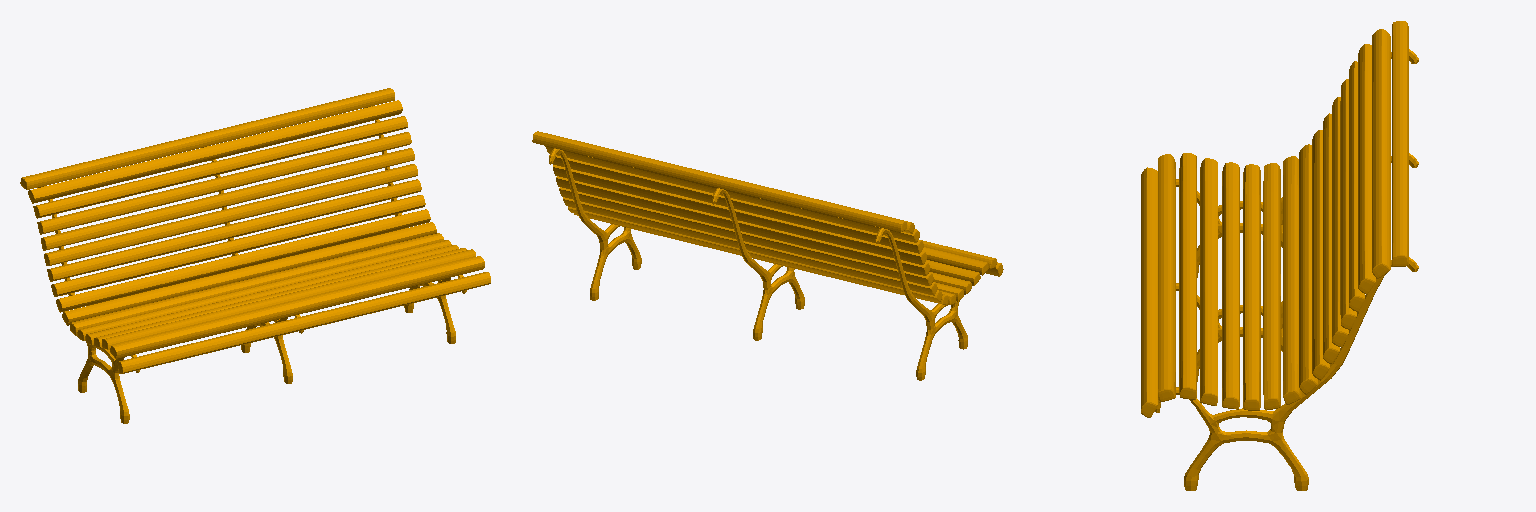
URDF robot description (none):
<robot name="none">
       <link name="none">
           <visual>
               <origin rpy="1.57 0 0" xyz="0 0 0" />
               <geometry>
                   <mesh filename="wood_bank.obj" />
               </geometry>
           </visual>
          <collision>
              <geometry>
                  <box size="1.000000 0.492714 0.501673" />
              </geometry>
          </collision>

          <inertial>
            <mass value="0.0" />
            <inertia ixx="0.0" ixy="0.0" ixz="0.0" iyy="0.0" iyz="0.0" izz="0.0" />
          </inertial>
      </link>
  </robot>

--- Facts derived from the render (not from the file) ---
Views: 3 orthographic renders of the robot side by side, from view 1: azimuth 30°, elevation 25°; view 2: azimuth 150°, elevation 25°; view 3: azimuth 270°, elevation 25°.
Model none with 1 links and 0 joints (none), rooted at none, posed every joint at zero.
Links seen in each view (by area): view 1: none; view 2: none; view 3: none.
Boxes of the visible links, left/top/right/bottom form: none: left=20, top=88, right=490, bottom=423; none: left=532, top=131, right=1003, bottom=380; none: left=1141, top=21, right=1418, bottom=490.
Size in the robot's own frame: 1 by 0.5019 by 0.4926 metres.
1 mesh visuals loaded from 1 distinct referenced files (1 OBJ).